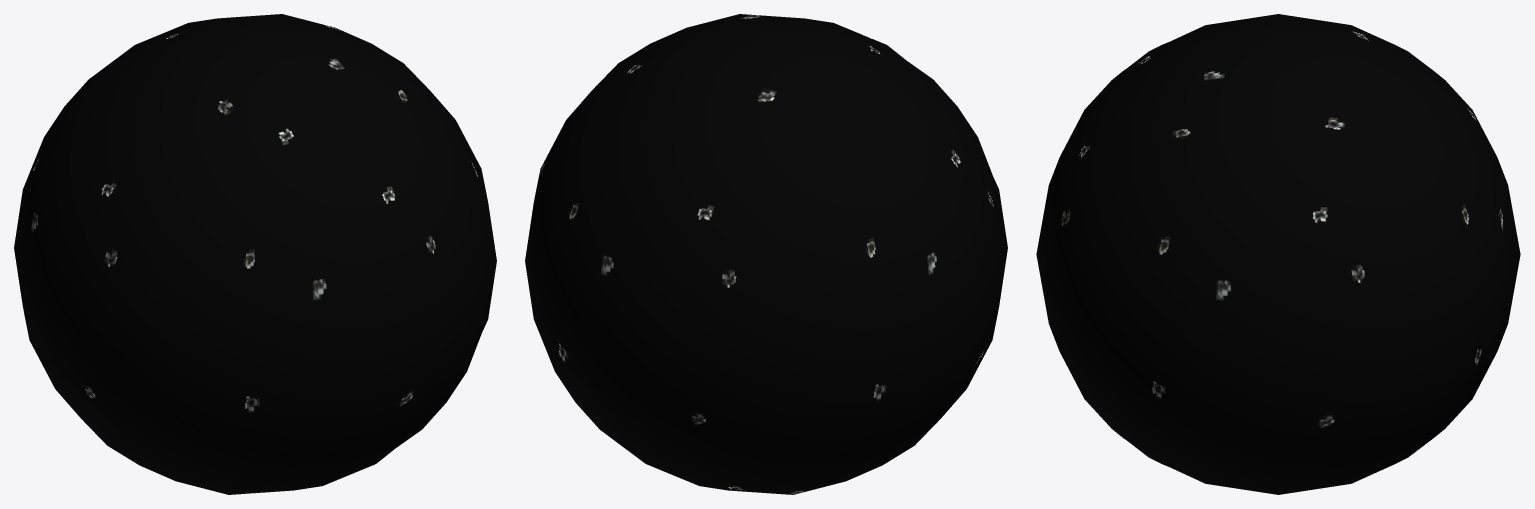
The model's file is balloon.obj.
3 renders of one model, left to right at view 1: azimuth 30°, elevation 25°; view 2: azimuth 150°, elevation 25°; view 3: azimuth 270°, elevation 25°, orthographic.
Parts seen in each view (by area): view 1: Balloon6, Balloon12, Balloon2, Balloon8, Balloon4; view 2: Balloon10, Balloon12, Balloon2, Balloon8, Balloon4; view 3: Balloon4, Balloon2, Balloon6, Balloon10, Balloon8.
Boxes of the visible parts, box(x1,y1,x2,y2) form: Balloon6: box(193, 149, 488, 477); Balloon12: box(14, 106, 204, 465); Balloon2: box(65, 14, 446, 208); Balloon8: box(108, 446, 392, 494); Balloon4: box(404, 64, 496, 329); Balloon10: box(533, 149, 828, 477); Balloon12: box(817, 106, 1007, 465); Balloon2: box(575, 14, 956, 208); Balloon8: box(605, 433, 913, 494); Balloon4: box(525, 64, 617, 362); Balloon4: box(1107, 171, 1449, 481); Balloon2: box(1107, 14, 1449, 186); Balloon6: box(1036, 80, 1138, 440); Balloon10: box(1418, 80, 1520, 440); Balloon8: box(1124, 438, 1432, 494).
Size of the model in its own units: 6.04 by 6.04 by 6.04.
3 materials, 2 textured.
